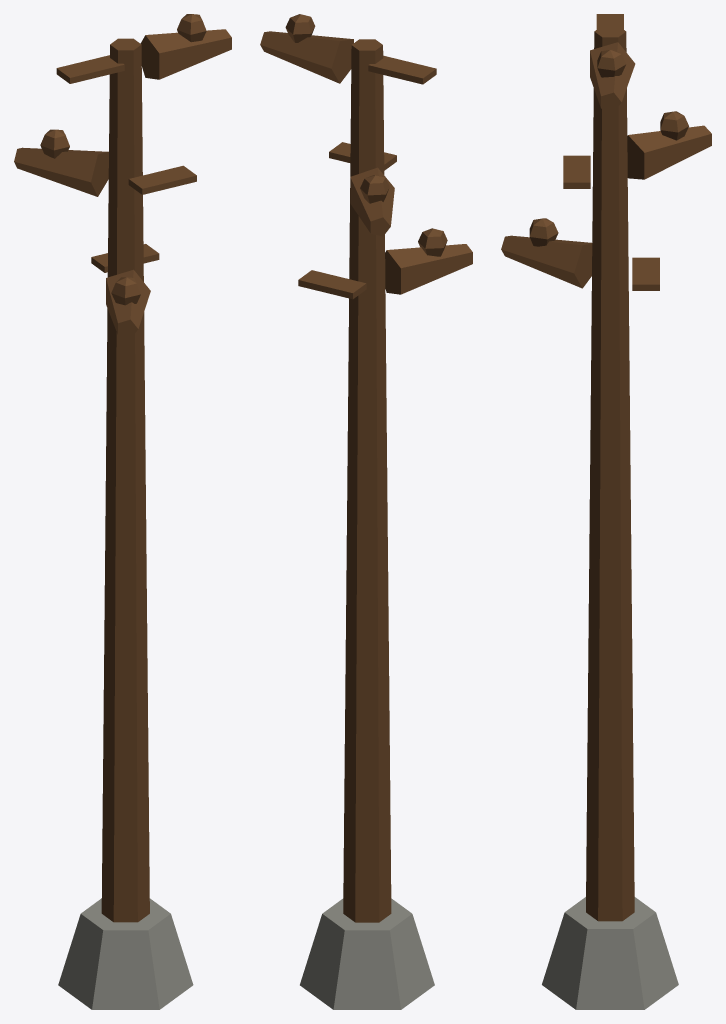
Rendered from prop_sotdae.glb.
3 renders of one model, left to right at view 1: azimuth 30°, elevation 25°; view 2: azimuth 150°, elevation 25°; view 3: azimuth 270°, elevation 25°, orthographic.
Visible parts, largest first — view 1: prop_sotdae; view 2: prop_sotdae; view 3: prop_sotdae.
Part boxes in pixels (left/top/right/bottom): prop_sotdae: left=14, top=14, right=231, bottom=1009; prop_sotdae: left=260, top=14, right=472, bottom=1009; prop_sotdae: left=501, top=14, right=711, bottom=1009.
Bounding box in the file's own units: 0.8664 × 4.67 × 0.922.
